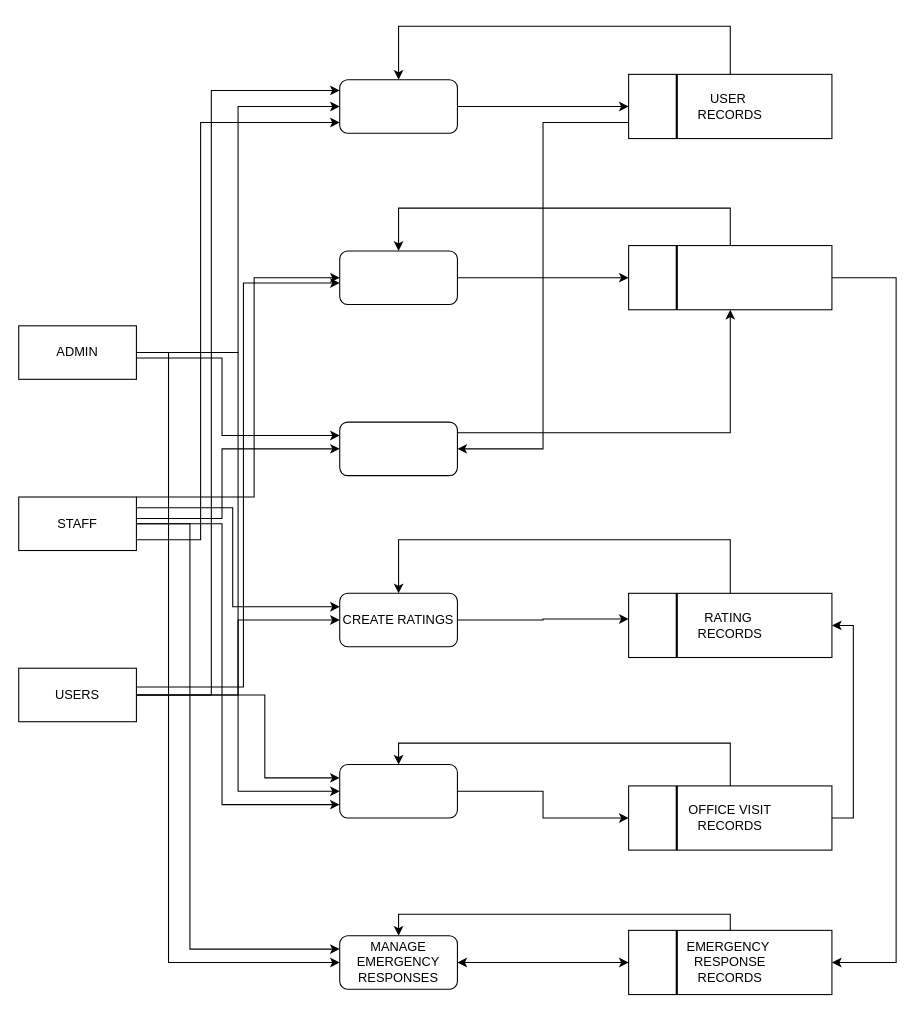
The diagram is 923 pixels wide and 1014 high, and some of its shapes have lost their labels. The shapes that lost their labels are listed below. From the top down, each one's centre as x and y in pixels, then its label:
the point at 398,106: LOGIN
the point at 398,277: MAKE EMERGENCY REQUESTS
the point at 730,277: EMERGENCY RECORDS
the point at 398,448: MANAGE USERS
the point at 398,790: MANAGE OFFICE VISITS
